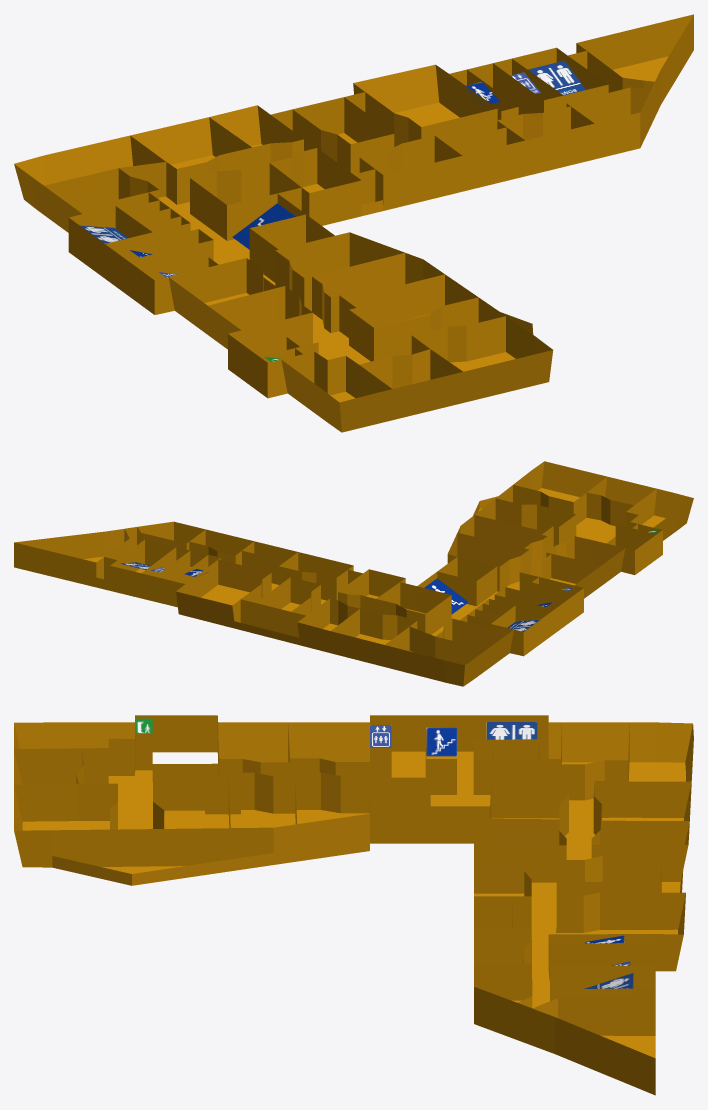
Rendered from piso5.glb.
3 renders of one model, top to bottom at view 1: azimuth 30°, elevation 25°; view 2: azimuth 150°, elevation 25°; view 3: azimuth 270°, elevation 25°, orthographic. The views are drawn at different scales.
Parts seen in each view (by area): view 1: Plano.009; view 2: Plano.009; view 3: Plano.009.
Part boxes in pixels (x1=…): Plano.009: x1=14, y1=14, x2=693, y2=432; Plano.009: x1=14, y1=461, x2=693, y2=686; Plano.009: x1=14, y1=715, x2=693, y2=1095.
Bounding box in the file's own units: 14.21 × 0.7246 × 11.89.
Materials: 6 (4 with a texture image).
